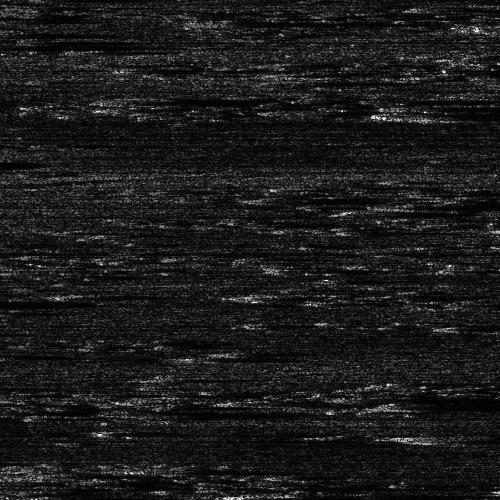rock: (354, 191, 427, 218), (176, 486, 301, 500), (392, 430, 497, 443), (333, 399, 426, 410), (376, 108, 459, 119), (78, 92, 171, 101), (111, 465, 194, 474), (158, 350, 211, 361), (180, 16, 243, 25), (430, 264, 500, 269), (18, 292, 81, 297), (386, 103, 449, 108), (229, 194, 270, 201), (424, 323, 465, 328), (148, 375, 189, 380), (0, 29, 21, 34), (0, 42, 9, 51)
shadow: (391, 191, 500, 218), (239, 486, 390, 500), (212, 16, 398, 25), (380, 399, 500, 410), (0, 42, 121, 51), (153, 465, 271, 474), (125, 92, 243, 101), (185, 350, 276, 361), (250, 194, 379, 201), (418, 108, 500, 119), (445, 430, 500, 443), (0, 29, 124, 34), (0, 347, 117, 352), (50, 292, 162, 297), (0, 298, 55, 307), (418, 103, 500, 108), (169, 375, 228, 380), (445, 323, 500, 328), (467, 264, 500, 269)
